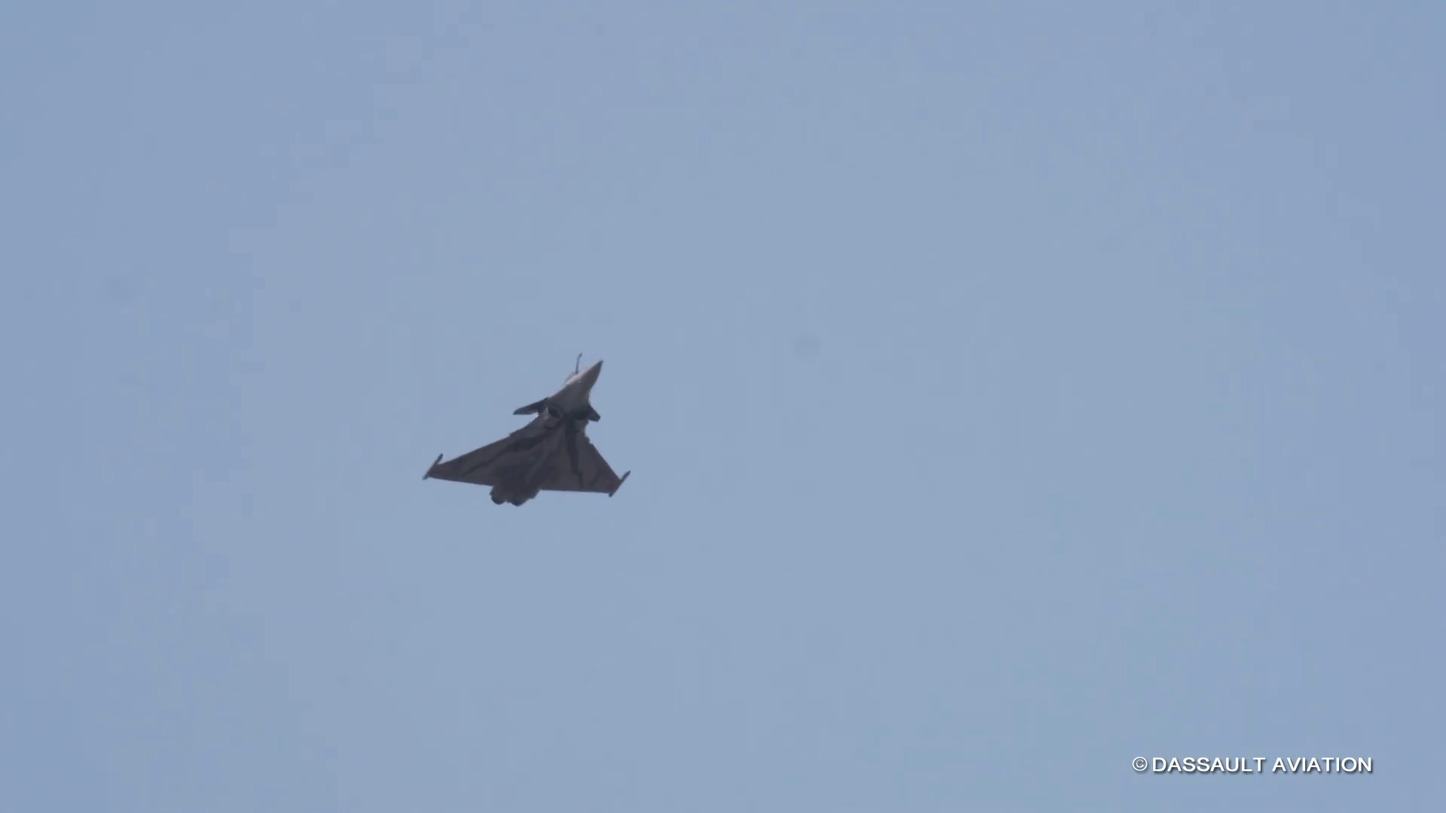Rafale: (410, 343, 639, 514)
